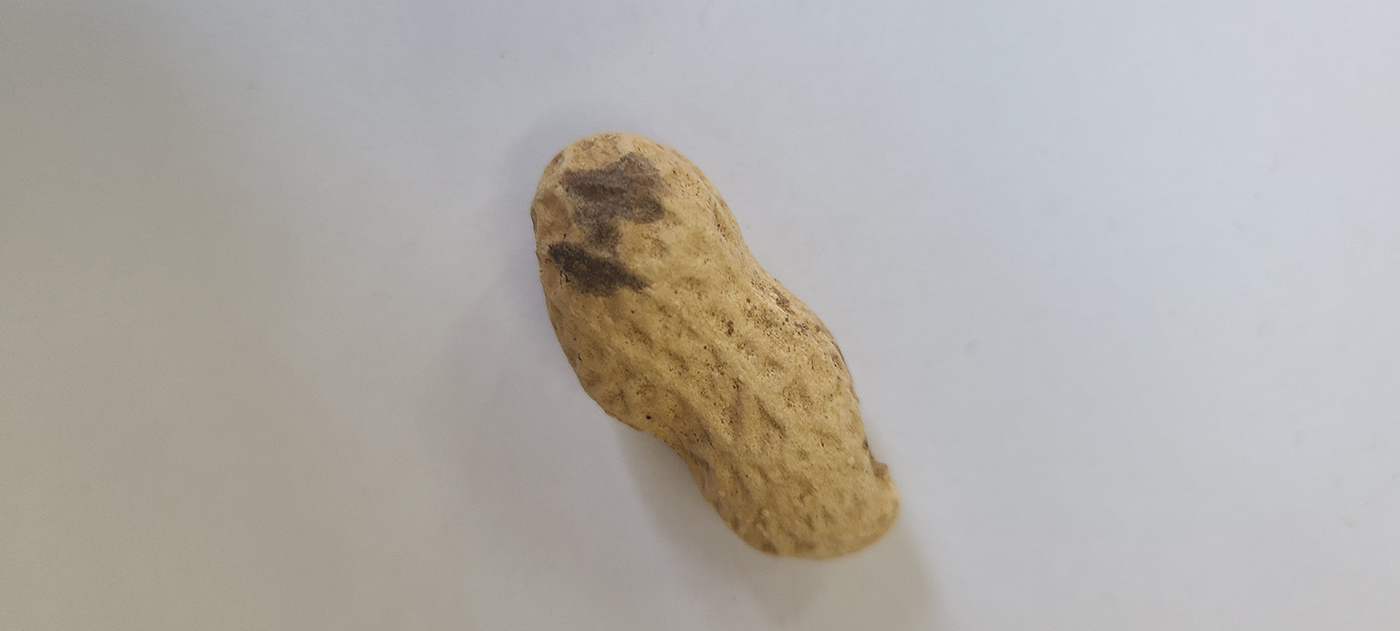h: (530, 132, 903, 560)
